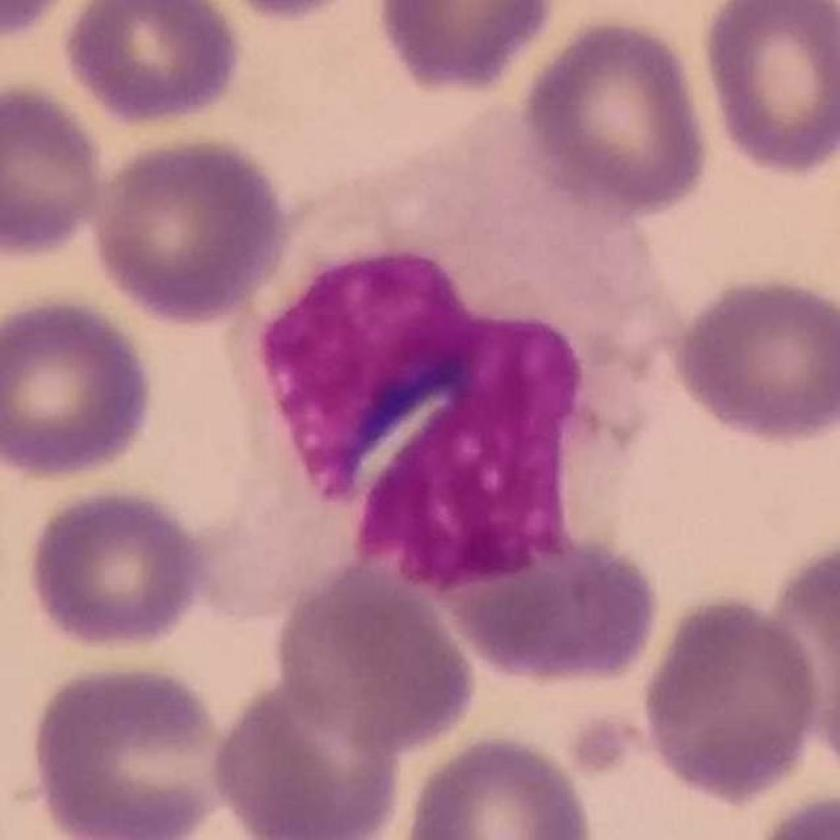monocyte: (189, 103, 690, 627)
